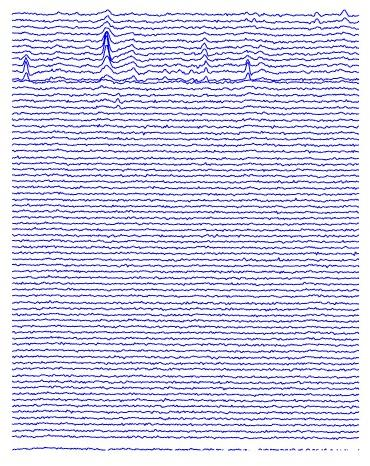defect: (100, 23, 118, 72), (200, 34, 213, 83), (126, 42, 140, 86), (334, 3, 349, 34), (20, 55, 34, 85), (240, 56, 254, 85), (307, 9, 322, 33), (110, 88, 122, 116)
